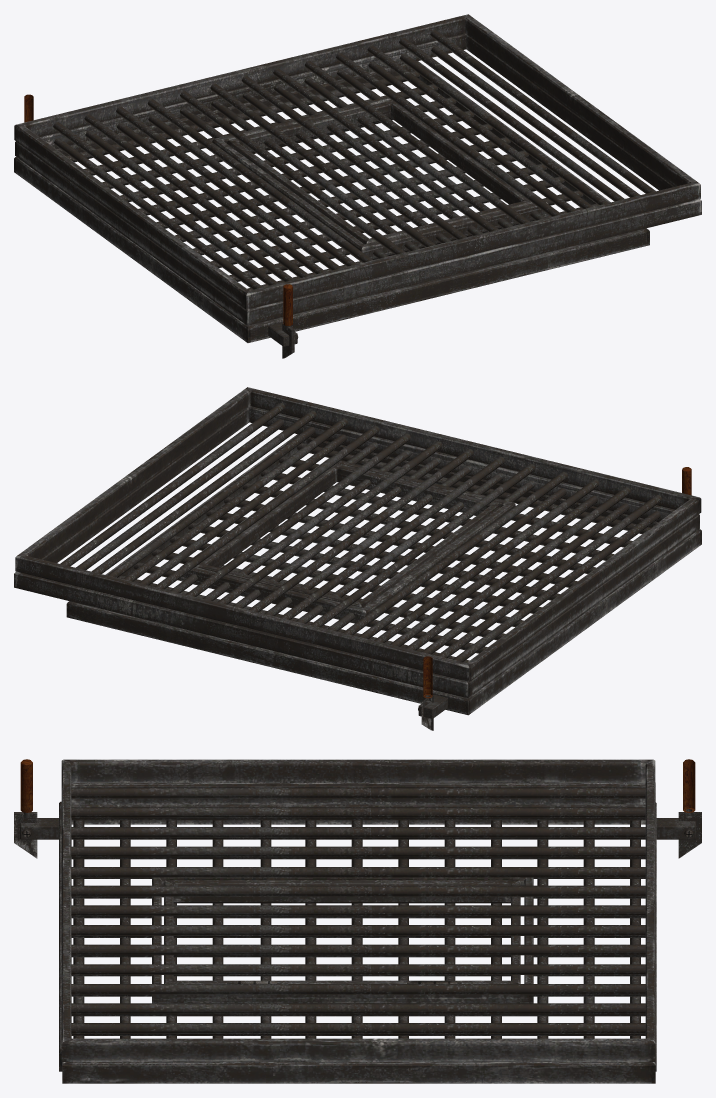
The model's file is cage_up.DAE.
3 renders of one model, top to bottom at view 1: azimuth 30°, elevation 25°; view 2: azimuth 150°, elevation 25°; view 3: azimuth 270°, elevation 25°, orthographic. The views are drawn at different scales.
Visible parts, largest first — view 1: cage_up; view 2: cage_up; view 3: cage_up.
Part boxes in pixels (x1=…): cage_up: x1=14, y1=14, x2=701, y2=358; cage_up: x1=14, y1=387, x2=701, y2=730; cage_up: x1=14, y1=759, x2=701, y2=1083.
Size of the model in its own units: 1.61 by 1.64 by 0.2547.
